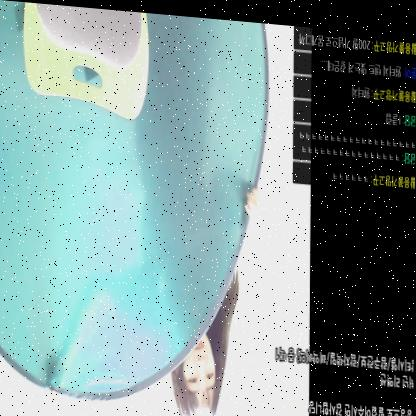streamer: (45, 3, 263, 416)
